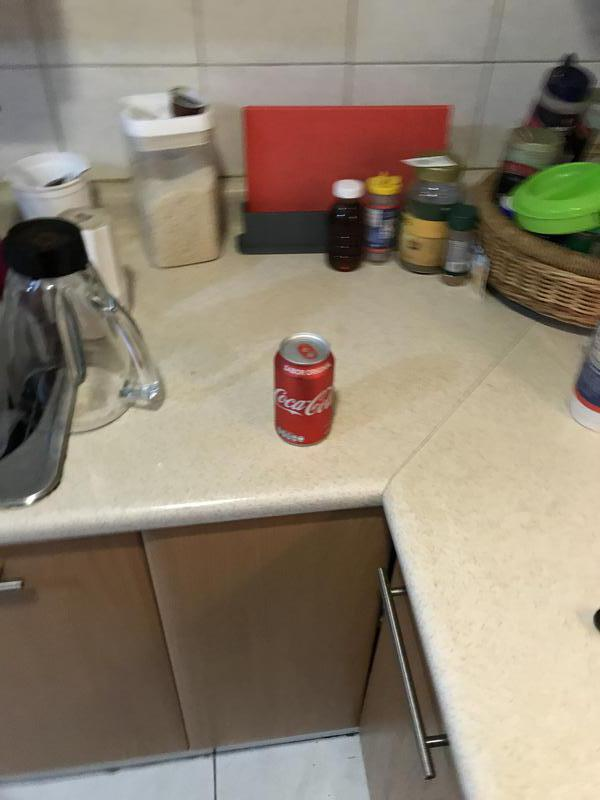coca_cola: (271, 333, 336, 450)
